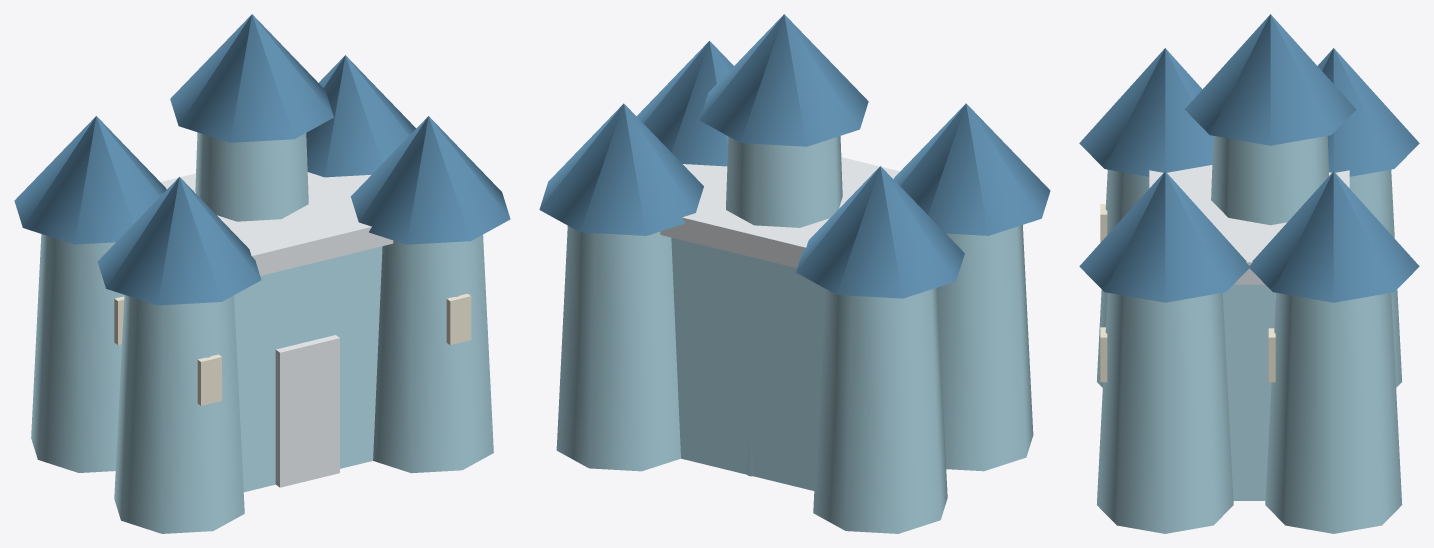
File: st_snow_palace.glb
3 renders of one model, left to right at view 1: azimuth 30°, elevation 25°; view 2: azimuth 150°, elevation 25°; view 3: azimuth 270°, elevation 25°, orthographic. The views are drawn at different scales.
Parts seen in each view (by area): view 1: Frozen_Palace; view 2: Frozen_Palace; view 3: Frozen_Palace.
Part boxes in pixels (x1,y1,x2,y2): Frozen_Palace: (14, 14, 510, 533); Frozen_Palace: (539, 14, 1050, 533); Frozen_Palace: (1079, 14, 1419, 533).
Bounding box in the file's own units: 2.64 × 2.7 × 1.94.
